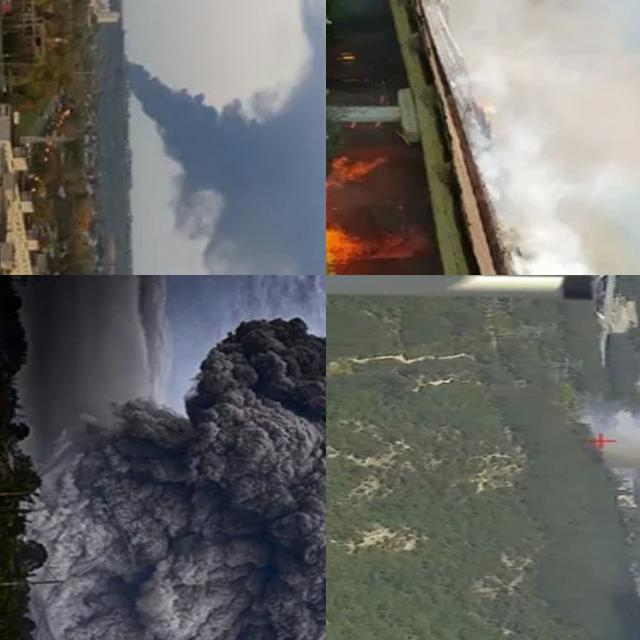smoke: (57, 313, 326, 640), (500, 0, 640, 275), (186, 82, 326, 275)
